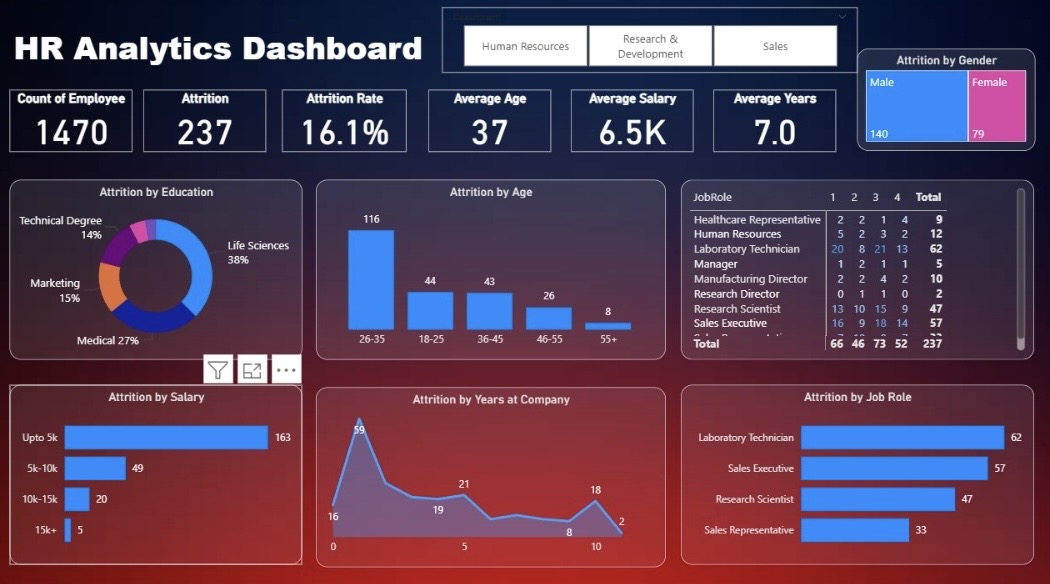

What the dashboard file says about the page in this screenshot:
{"tool":"powerbi","page":{"name":"Page 1","canvas":[1280,720],"ordinal":0},"visuals":[{"type":"card","title":"Count of Employee","fields":{"Values":["CountNonNull(HR_Analytics.EmpID)"]},"box":[16.3,116.1,148.7,75.4],"z":0},{"type":"card","title":"Attrition","fields":{"Values":["Sum(HR_Analytics.AttritionCount)"]},"box":[179.3,116.1,148.7,75.4],"z":1000},{"type":"card","title":"Attrition Rate","fields":{"Values":["HR_Analytics.AttritionRate"]},"box":[346.3,116.1,150.7,75.4],"z":2000},{"type":"card","title":"Average Age","fields":{"Values":["Avg(HR_Analytics.Age)"]},"box":[523.5,116.1,148.7,75.4],"z":3000},{"type":"card","title":"Average Salary","fields":{"Values":["Avg(HR_Analytics.MonthlyIncome)"]},"box":[696.7,116.1,148.7,75.4],"z":4000},{"type":"card","title":"Average Years","fields":{"Values":["Avg(HR_Analytics.YearsAtCompany)"]},"box":[869.9,116.1,148.7,75.4],"z":5000},{"type":"donutChart","title":"Attrition by Education","fields":{"Category":["HR_Analytics.EducationField"],"Y":["Sum(HR_Analytics.AttritionCount)"]},"box":[16.3,226.1,354.5,218],"z":6000},{"type":"columnChart","title":"Attrition by Age","fields":{"Category":["HR_Analytics.AgeGroup"],"Y":["Sum(HR_Analytics.AttritionCount)"]},"box":[387.1,226.1,423.7,218],"z":7000},{"type":"pivotTable","fields":{"Rows":["HR_Analytics.JobRole"],"Columns":["HR_Analytics.JobSatisfaction"],"Values":["Sum(HR_Analytics.AttritionCount)"]},"box":[829.1,226.1,427.8,218],"z":8000},{"type":"barChart","title":"Attrition by Job Role","fields":{"Category":["HR_Analytics.JobRole"],"Y":["Sum(HR_Analytics.AttritionCount)"]},"box":[829.1,474.7,427.8,218],"z":9000},{"type":"barChart","title":"Attrition by Salary","fields":{"Category":["HR_Analytics.SalarySlab"],"Y":["Sum(HR_Analytics.AttritionCount)"]},"box":[16.3,474.7,354.5,218],"z":10000},{"type":"areaChart","title":"Attrition by Years at Company","fields":{"Category":["HR_Analytics.YearsAtCompany"],"Y":["Sum(HR_Analytics.AttritionCount)"]},"box":[387.1,476.7,423.7,218],"z":11000},{"type":"treemap","title":"Attrition by Gender","fields":{"Group":["HR_Analytics.Gender"],"Values":["Sum(HR_Analytics.AttritionCount)"]},"box":[1043,67.2,215.9,124.3],"z":12000},{"type":"slicer","fields":{"Values":["HR_Analytics.Department"]},"box":[539.8,16.3,503.2,79.4],"z":13000},{"type":"textbox","box":[16.3,32.6,507.3,63.2],"z":14000}]}

Visuals, with their boxes in screenshot pixels (x1, y1, x2, y2), scaled from the page's 1280x720 canvas onto the 1050x584 screenshot:
"Count of Employee" card: bbox(13, 94, 135, 155)
"Attrition" card: bbox(147, 94, 269, 155)
"Attrition Rate" card: bbox(284, 94, 408, 155)
"Average Age" card: bbox(429, 94, 551, 155)
"Average Salary" card: bbox(572, 94, 693, 155)
"Average Years" card: bbox(714, 94, 836, 155)
"Attrition by Education" donutChart: bbox(13, 183, 304, 360)
"Attrition by Age" columnChart: bbox(318, 183, 665, 360)
pivotTable - HR_Analytics.JobRole x HR_Analytics.JobSatisfaction: bbox(680, 183, 1031, 360)
"Attrition by Job Role" barChart: bbox(680, 385, 1031, 562)
"Attrition by Salary" barChart: bbox(13, 385, 304, 562)
"Attrition by Years at Company" areaChart: bbox(318, 387, 665, 563)
"Attrition by Gender" treemap: bbox(856, 55, 1033, 155)
slicer - HR_Analytics.Department: bbox(443, 13, 856, 78)
textbox: bbox(13, 26, 430, 78)
